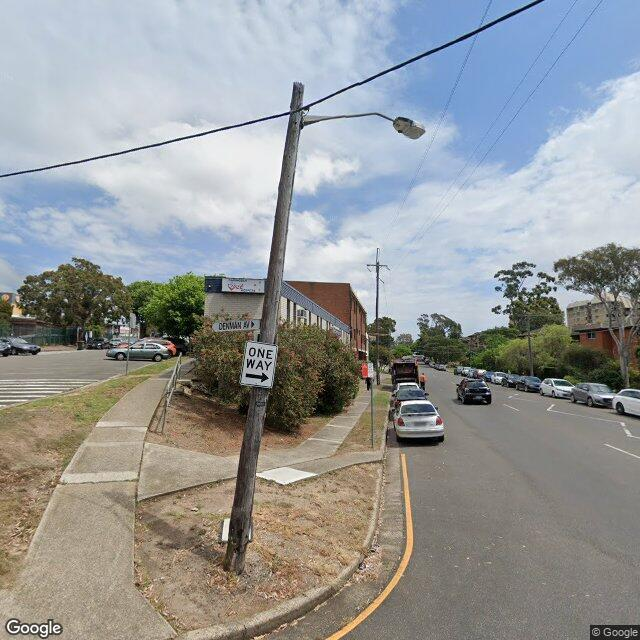HV-transmission: (367, 248, 390, 284)
crossarm: (366, 264, 388, 267)
streetlight: (301, 110, 427, 140)
timber-pole: (223, 81, 307, 574), (376, 262, 381, 385)
